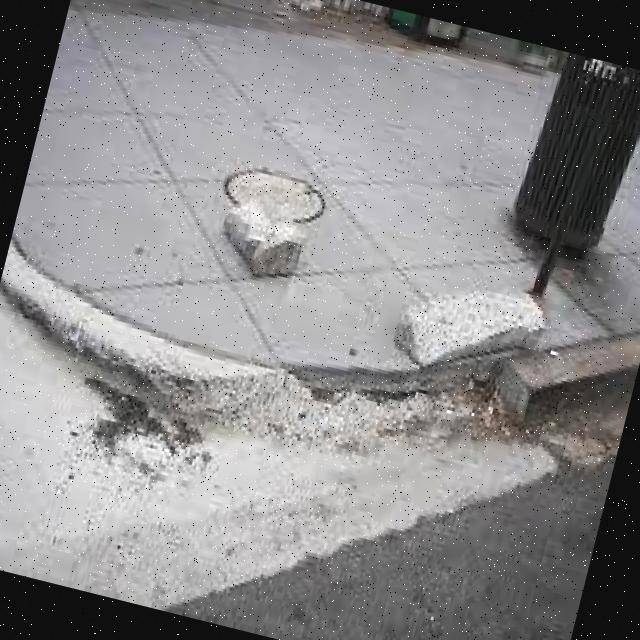curb: (68, 297, 392, 447), (485, 335, 640, 439)
